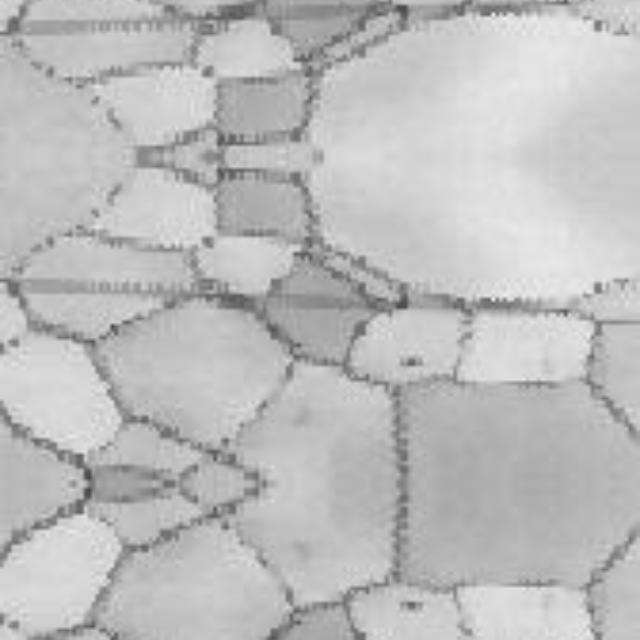good_void: (398, 352, 428, 370), (398, 598, 428, 615)
